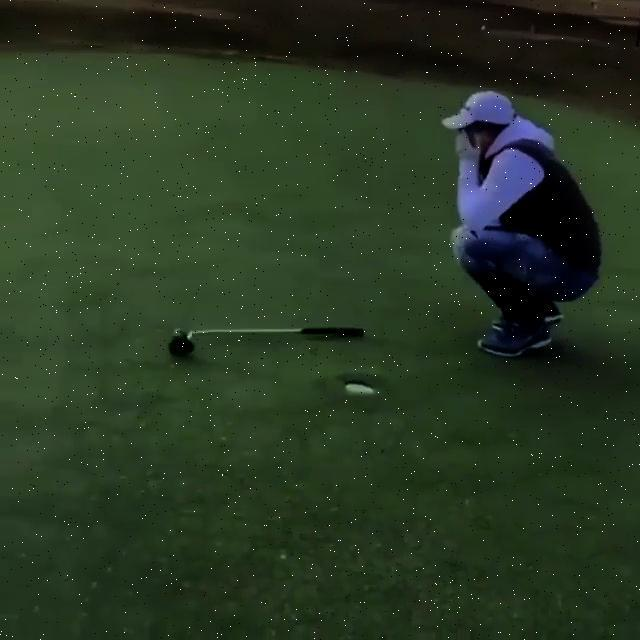golf club-handle: (167, 324, 367, 360)
golf club-head: (170, 325, 194, 358)
